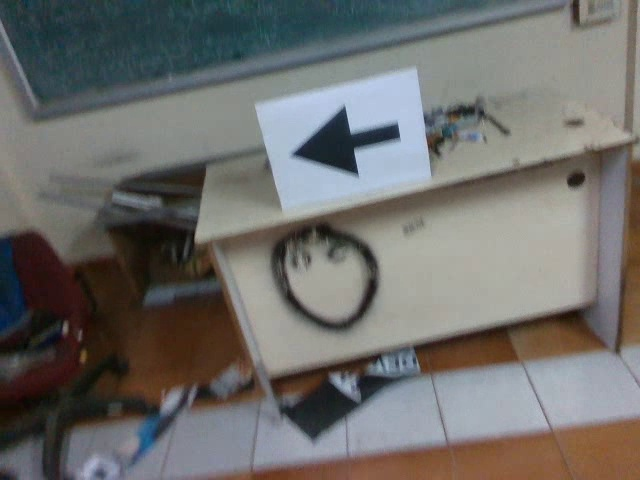Left: (284, 102, 405, 179)
